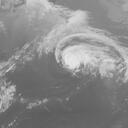cyclone: (54, 34, 127, 81)
